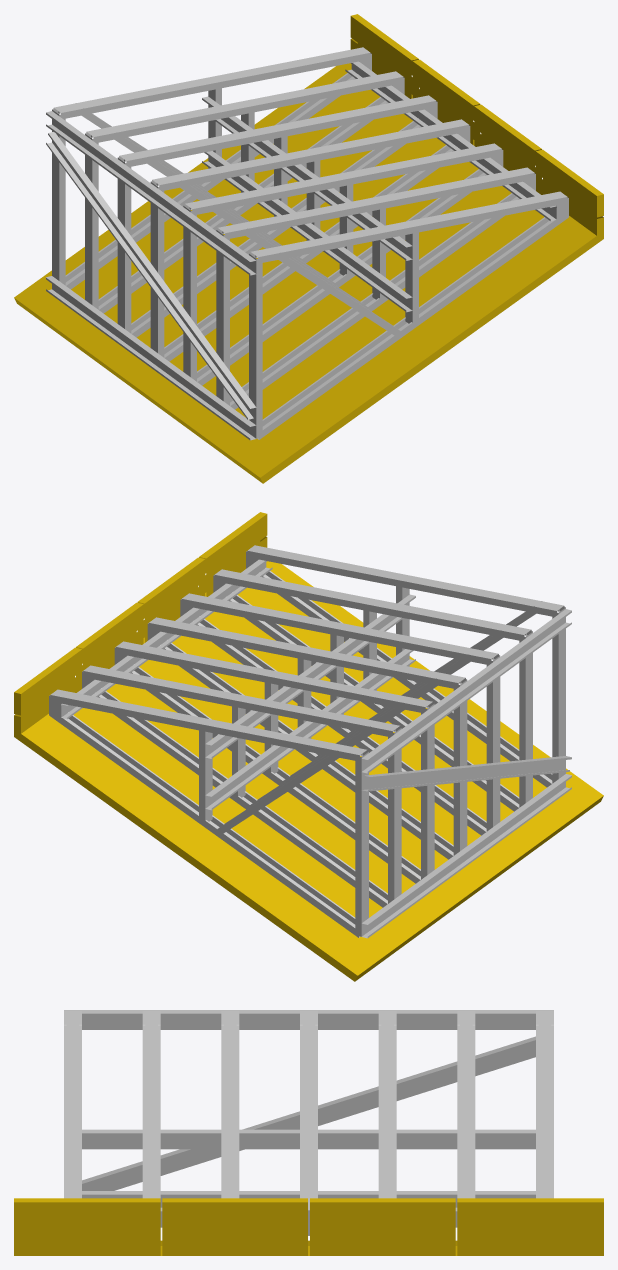
Rendered from asset.glb.
3 renders of one model, top to bottom at view 1: azimuth 30°, elevation 25°; view 2: azimuth 150°, elevation 25°; view 3: azimuth 270°, elevation 25°, orthographic. The views are drawn at different scales.
Visible parts, largest first — view 1: imagetostl_mesh; view 2: imagetostl_mesh; view 3: imagetostl_mesh.
Boxes of the visible parts, <box> form: imagetostl_mesh: <box>14,14,603,483</box>; imagetostl_mesh: <box>14,512,603,981</box>; imagetostl_mesh: <box>14,1010,603,1255</box>.
Size of the model in its own units: 96.72 by 55.79 by 120.
